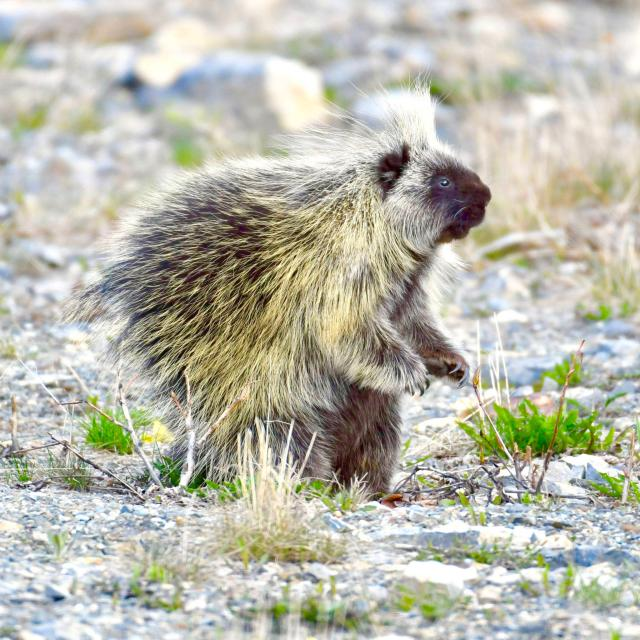porcupine: (65, 88, 491, 495)
